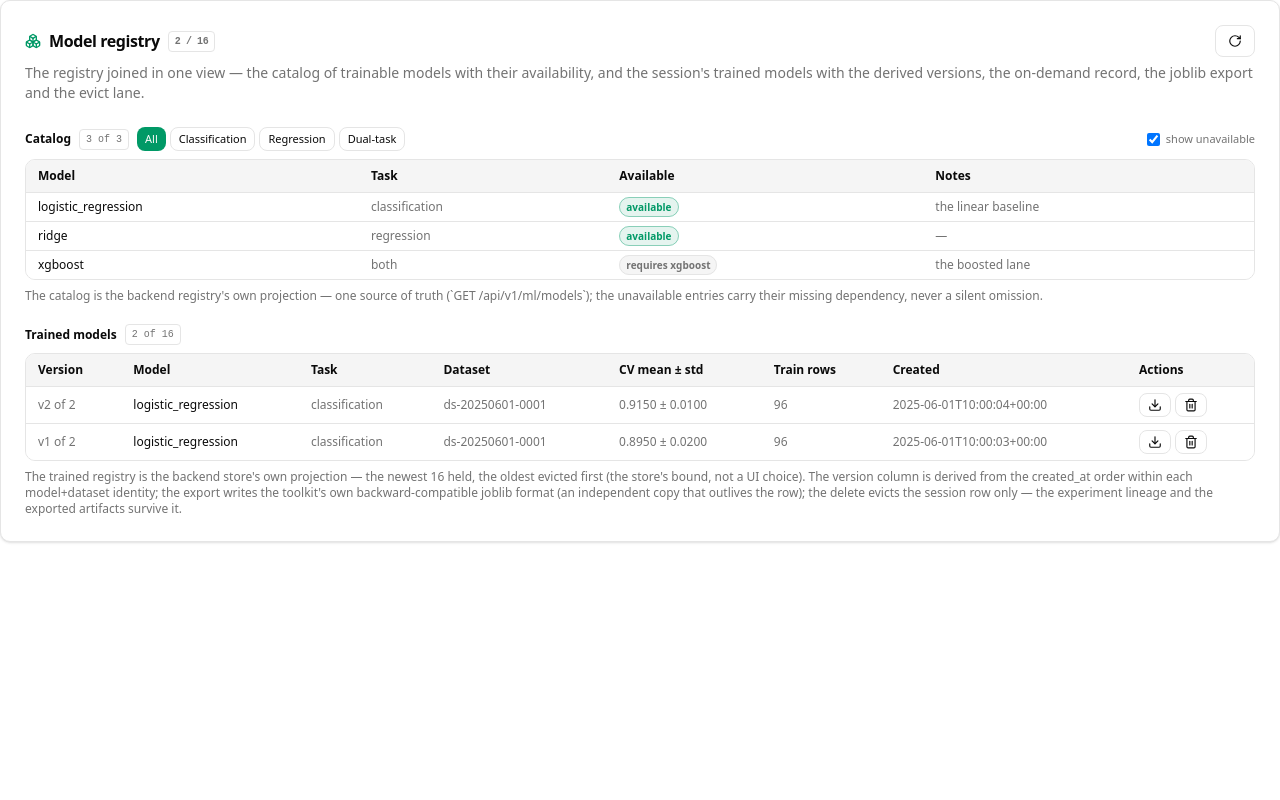
Test case: ModelRegistry (part16 §15.3) › exports through the digest-verified download lane and states the status
Check: the text "2 / 16" is shown, box [168,30,215,52]
Click the button named "export logistic_regression as a joblib artifact" in the row of "0.9150 ± 0.0100" at (1155, 405), box [1139,393,1171,417]
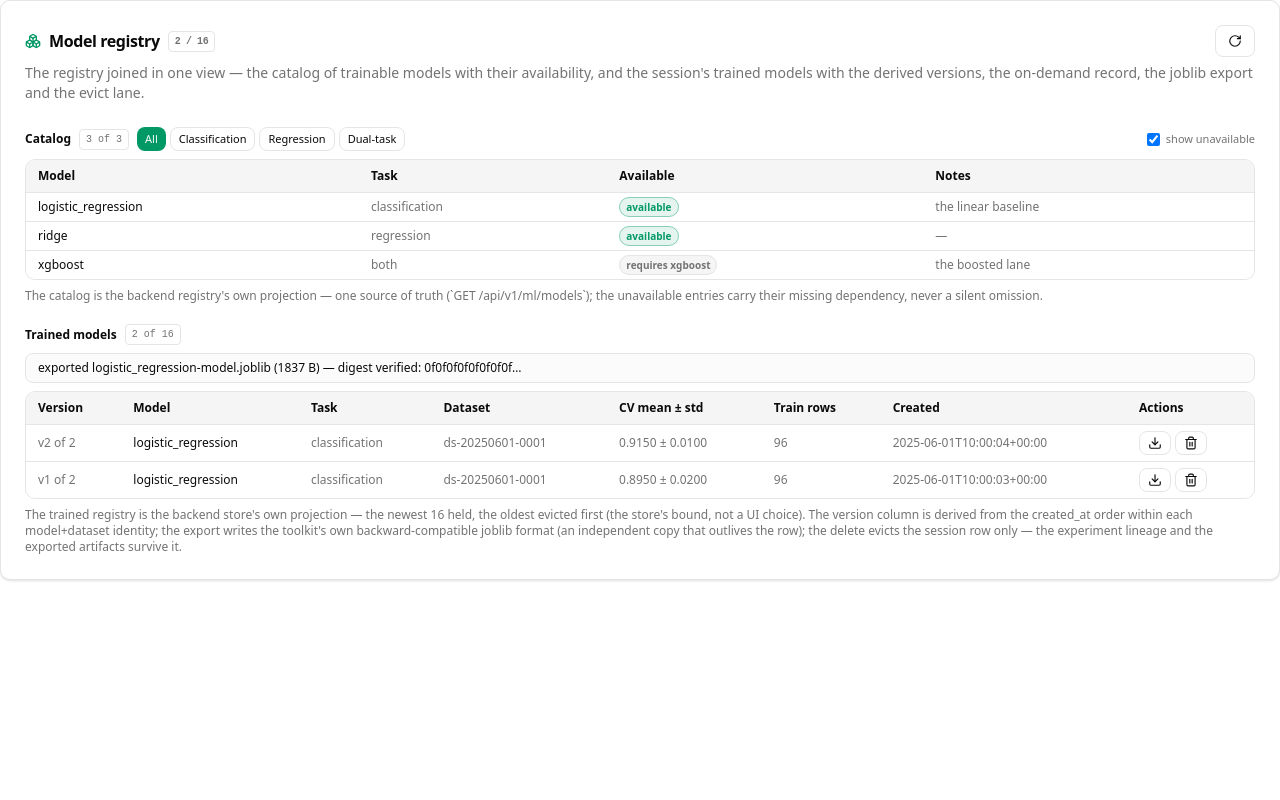
Check: the text "digest verified" is shown, box [38,359,522,376]
